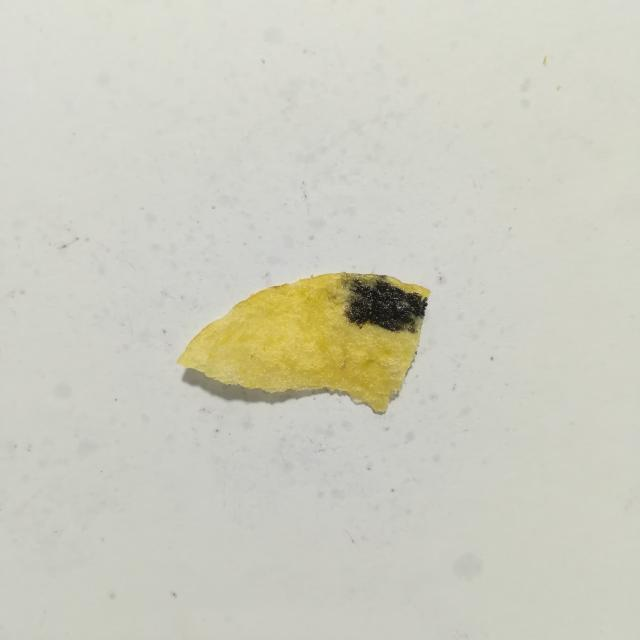chip: (177, 272, 429, 412)
damaged: (342, 274, 427, 333)
